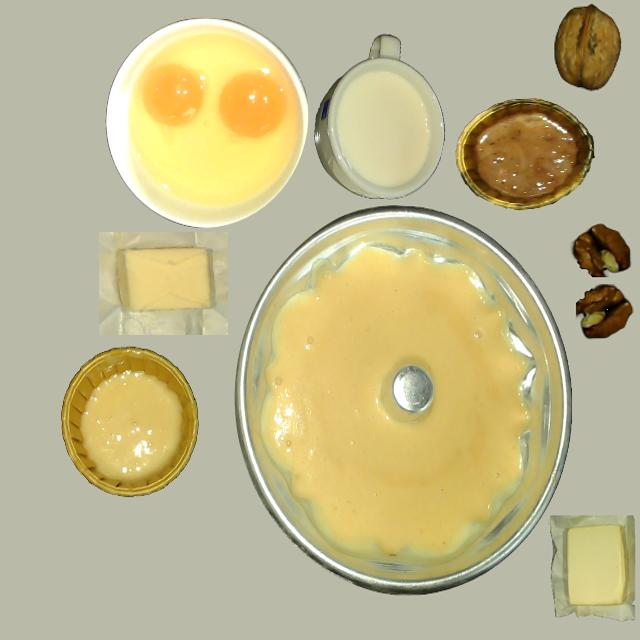Egg: (218, 71, 285, 138), (141, 63, 206, 127)
Milk: (336, 72, 428, 186)
Walnut: (555, 5, 621, 91)
